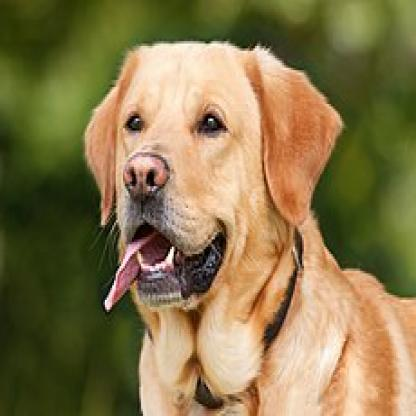dog: (81, 41, 416, 416)
